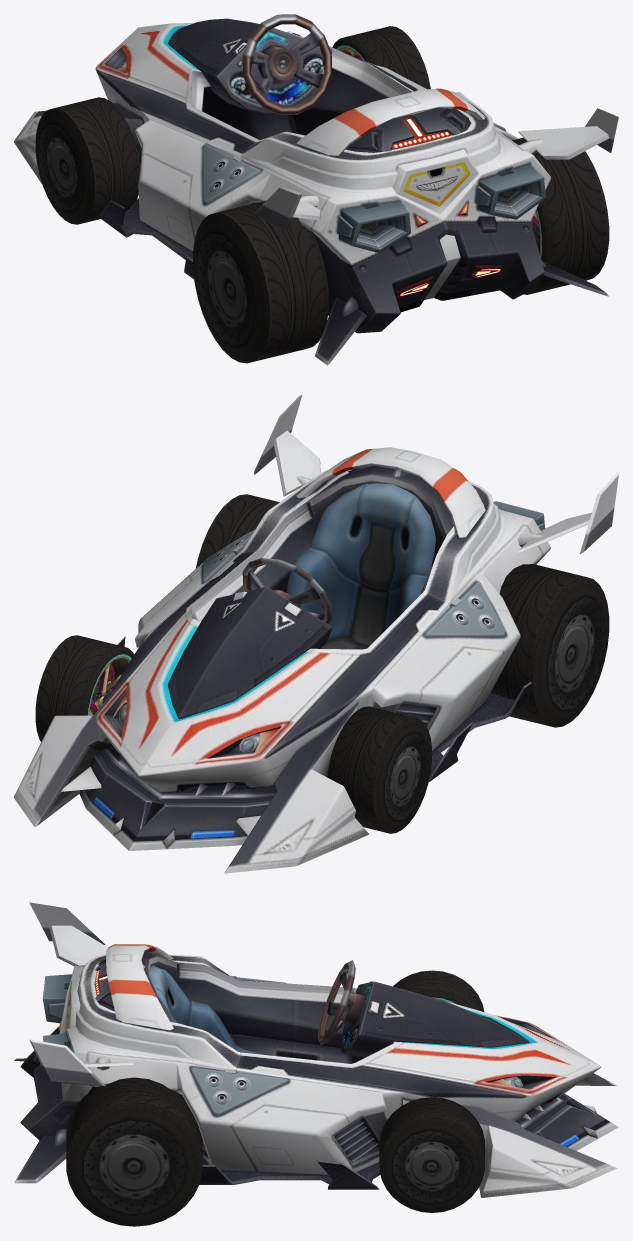
3 renders of one model, top to bottom at view 1: azimuth 30°, elevation 25°; view 2: azimuth 150°, elevation 25°; view 3: azimuth 270°, elevation 25°, orthographic. The views are drawn at different scales.
Visible parts, largest first — view 1: body, wheel_rl, wheel_fl, wheel_rr, wheel_fr; view 2: body, wheel_rl, wheel_fl, wheel_fr, wheel_rr; view 3: body, wheel_rr, wheel_fr, wheel_fl.
Part boxes in pixels (x1,y1,x2,y2): body: [14, 14, 618, 365]; wheel_rl: [193, 200, 328, 363]; wheel_fl: [35, 97, 139, 224]; wheel_rr: [512, 137, 609, 294]; wheel_fr: [332, 26, 430, 89]; body: [14, 394, 618, 873]; wheel_rl: [490, 564, 609, 727]; wheel_fl: [327, 706, 431, 833]; wheel_fr: [35, 635, 134, 741]; wheel_rr: [196, 494, 279, 568]; body: [14, 902, 618, 1197]; wheel_rr: [66, 1077, 202, 1226]; wheel_fr: [379, 1097, 484, 1212]; wheel_fl: [393, 970, 484, 1011].
Bounding box in the file's own units: 2.24 × 1.34 × 3.76.
4 materials, 4 textured.
